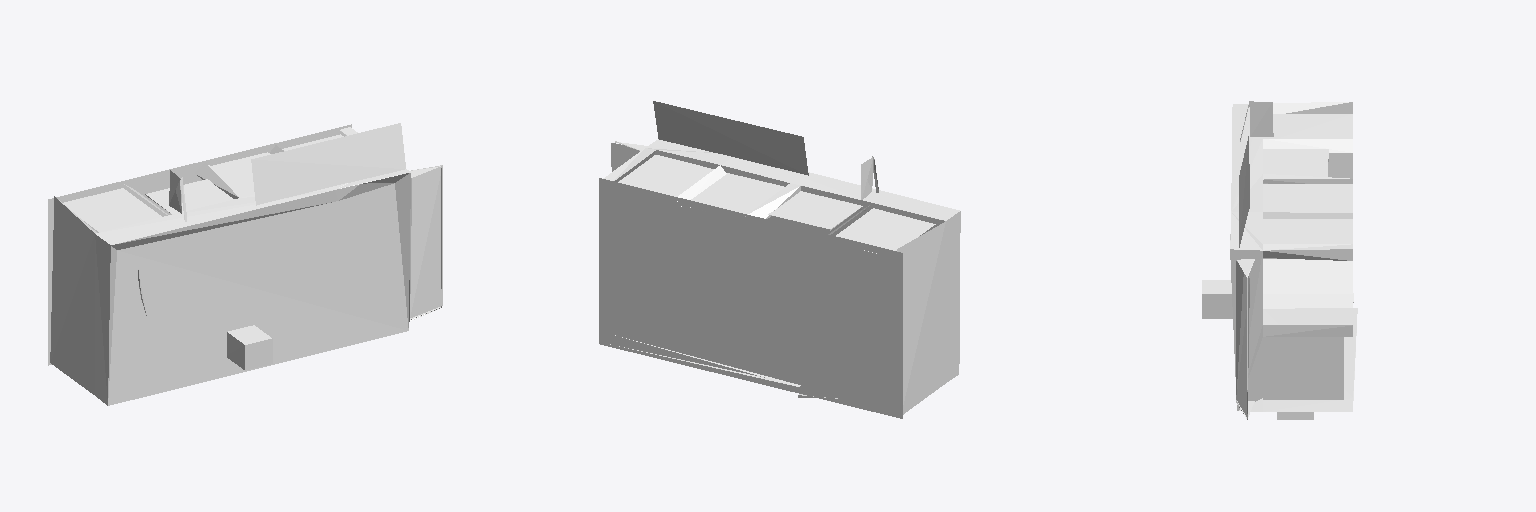
The model's file is building4LOD.obj.
3 views of the same model, side by side, from view 1: azimuth 30°, elevation 25°; view 2: azimuth 150°, elevation 25°; view 3: azimuth 270°, elevation 25° (orthographic).
Parts seen in each view (by area): view 1: building4.001_LOD1; view 2: building4.001_LOD1; view 3: building4.001_LOD1.
Part boxes in pixels (bbox=[...]): building4.001_LOD1: bbox=[48, 123, 442, 405]; building4.001_LOD1: bbox=[599, 101, 960, 418]; building4.001_LOD1: bbox=[1202, 101, 1357, 419].
Size of the model in its own units: 10.75 by 6.74 by 4.21.